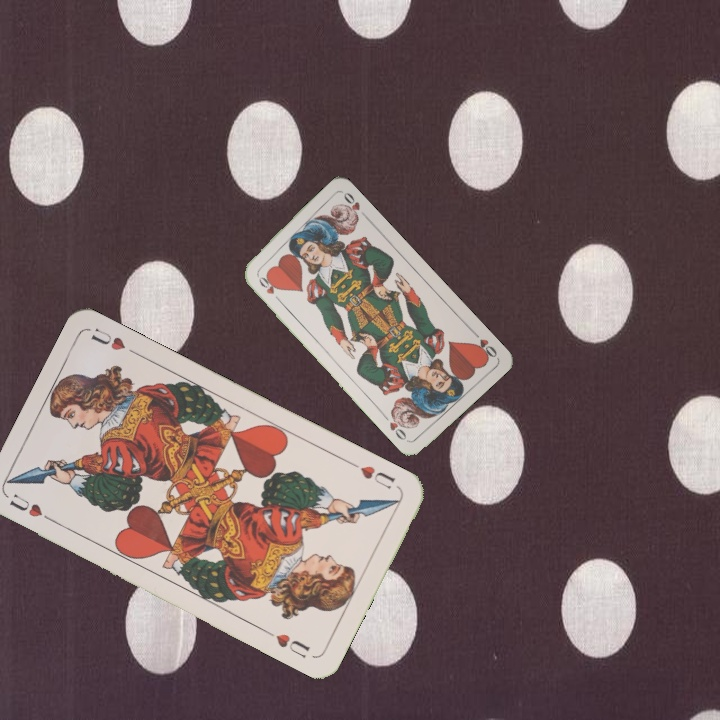HO: (468, 327, 500, 362), (252, 270, 283, 304)
HU: (5, 489, 58, 526), (356, 461, 398, 492)
